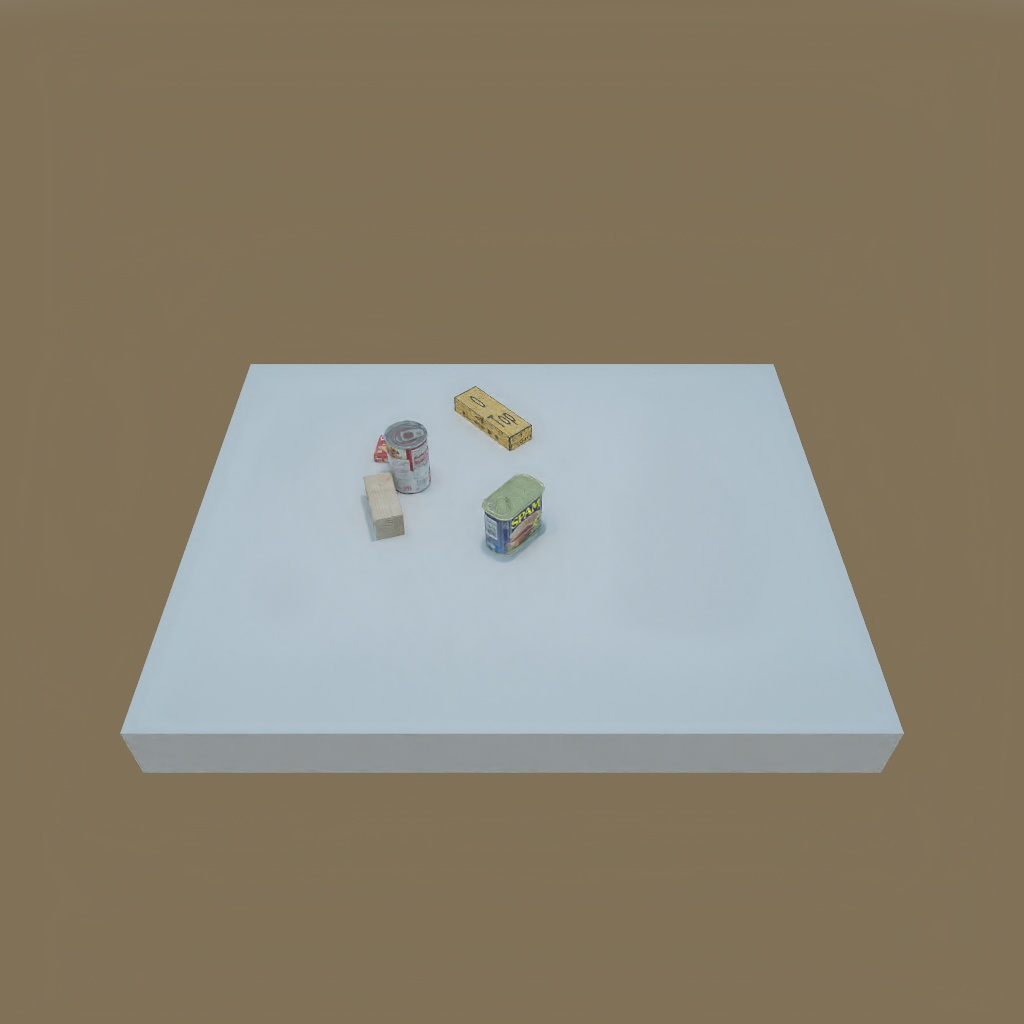jenga: (450, 384, 535, 448)
potted_meat_can: (481, 475, 545, 557)
tomato_soup_can: (386, 419, 438, 499)
wood_block: (358, 469, 413, 543)
